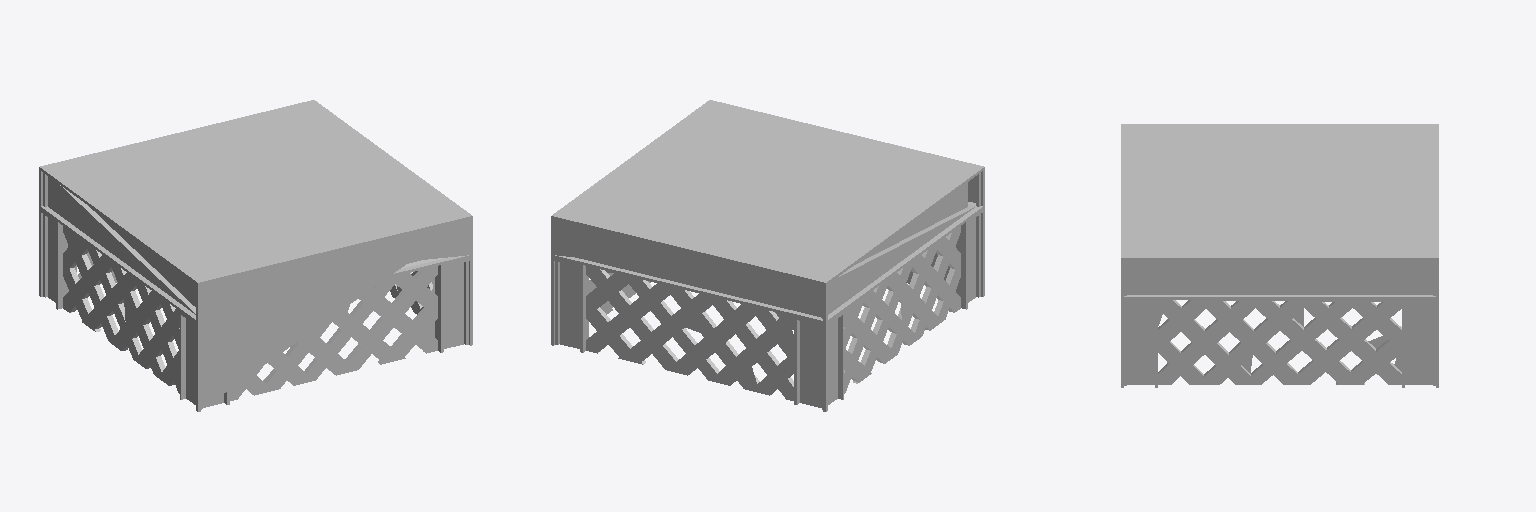
Rendered from Half_Crate__118896_.obj.
3 renders of one model, left to right at view 1: azimuth 30°, elevation 25°; view 2: azimuth 150°, elevation 25°; view 3: azimuth 270°, elevation 25°, orthographic.
Parts seen in each view (by area): view 1: Half_Crate__118896__temp_Half_Crate__118896_.002; view 2: Half_Crate__118896__temp_Half_Crate__118896_.002; view 3: Half_Crate__118896__temp_Half_Crate__118896_.002.
Boxes of the visible parts, x1,y1,x2,y2 form: Half_Crate__118896__temp_Half_Crate__118896_.002: [39, 100, 472, 411]; Half_Crate__118896__temp_Half_Crate__118896_.002: [551, 100, 984, 411]; Half_Crate__118896__temp_Half_Crate__118896_.002: [1121, 124, 1438, 387].
Size of the model in its own units: 0.3334 by 0.15 by 0.3334.